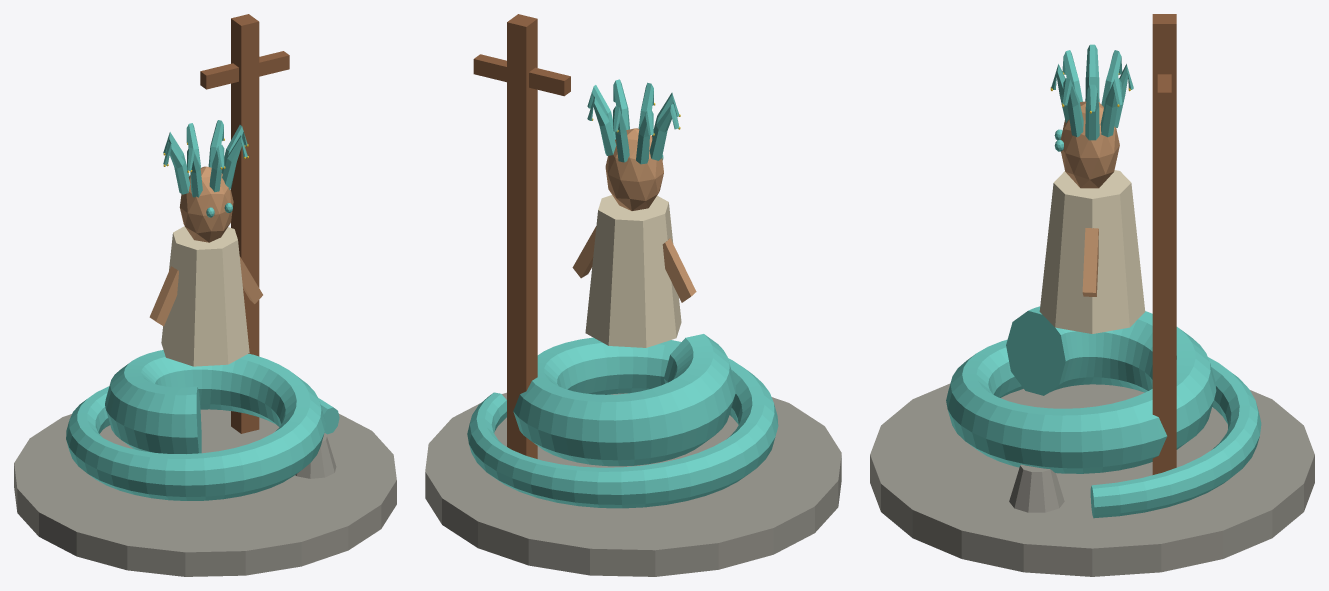
Rendered from chefe_medusa.glb.
3 renders of one model, left to right at view 1: azimuth 30°, elevation 25°; view 2: azimuth 150°, elevation 25°; view 3: azimuth 270°, elevation 25°, orthographic. The views are drawn at different scales.
Parts seen in each view (by area): view 1: chefe_medusa; view 2: chefe_medusa; view 3: chefe_medusa.
Part boxes in pixels (<box>): chefe_medusa: <box>14,14,396,576</box>; chefe_medusa: <box>425,14,841,576</box>; chefe_medusa: <box>870,14,1314,576</box>.
Size of the model in its own units: 8 by 10 by 8.
